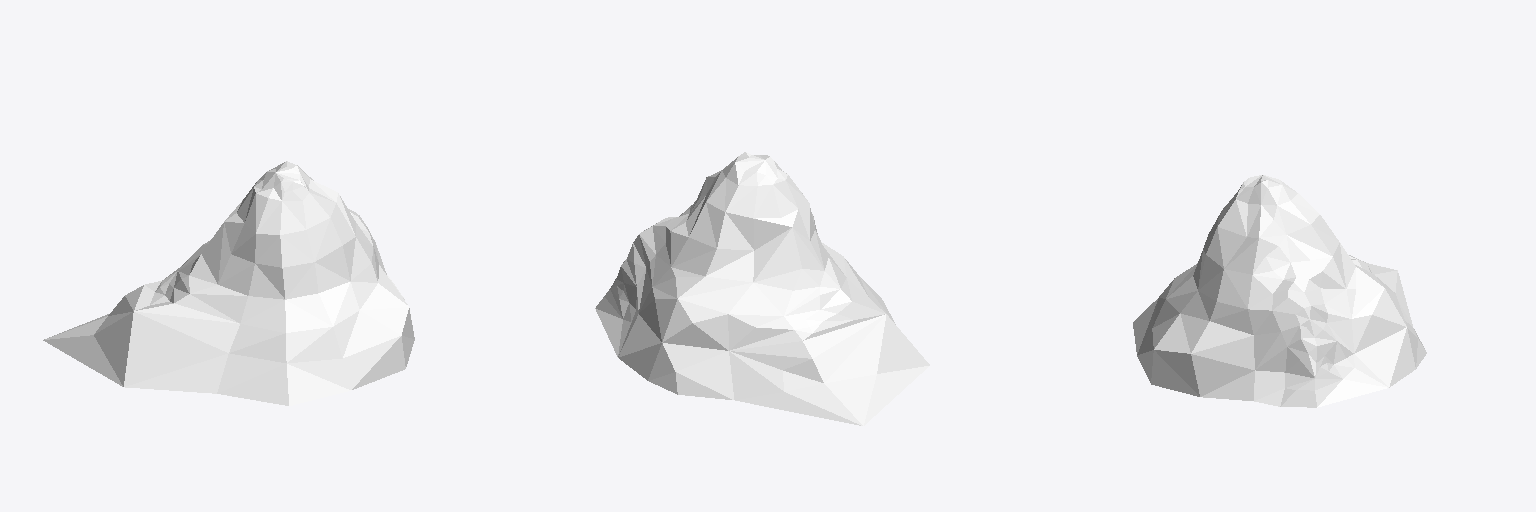
3 renders of one model, left to right at view 1: azimuth 30°, elevation 25°; view 2: azimuth 150°, elevation 25°; view 3: azimuth 270°, elevation 25°, orthographic.
Parts seen in each view (by area): view 1: group[number redacted]; view 2: group[number redacted]; view 3: group[number redacted].
Part boxes in pixels (bbox=[...]): group[number redacted]: bbox=[43, 161, 414, 405]; group[number redacted]: bbox=[595, 152, 929, 425]; group[number redacted]: bbox=[1133, 175, 1426, 407].
Size of the model in its own units: 108 by 60.04 by 89.38.